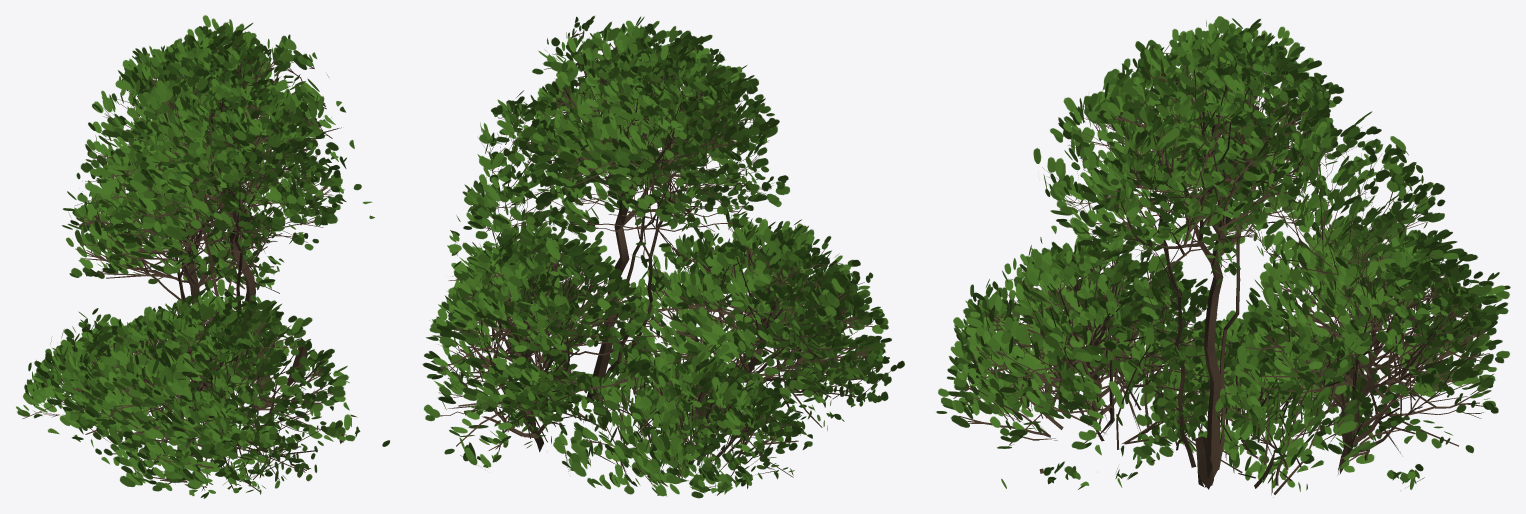
3 views of the same model, side by side, from view 1: azimuth 30°, elevation 25°; view 2: azimuth 150°, elevation 25°; view 3: azimuth 270°, elevation 25° (orthographic). The views are drawn at different scales.
Parts seen in each view (by area): view 1: oak 01.001_trunk_Mat.001_0.279; view 2: oak 01.001_trunk_Mat.001_0.279; view 3: oak 01.001_trunk_Mat.001_0.279.
Boxes of the visible parts, x1,y1,x2,y2 form: oak 01.001_trunk_Mat.001_0.279: [16, 15, 389, 498]; oak 01.001_trunk_Mat.001_0.279: [422, 16, 904, 498]; oak 01.001_trunk_Mat.001_0.279: [936, 16, 1510, 497].
Bounding box in the file's own units: 3.04 × 4.03 × 4.79.
Materials: 2 (1 with a texture image).
